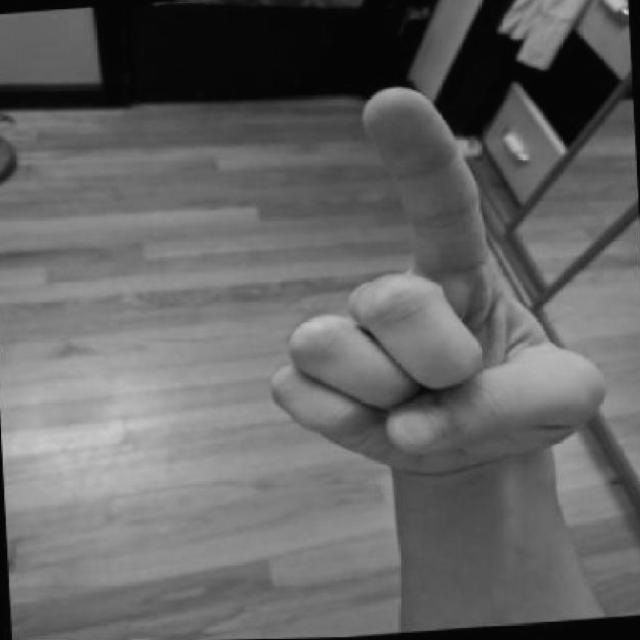D: (244, 78, 640, 488)
